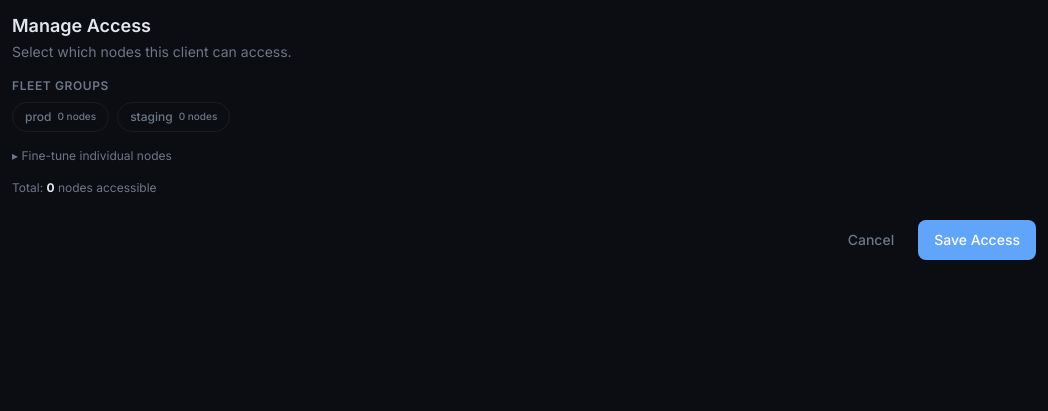
Test: ClientAccessSheet a11y (P2-FE-07 / M-F6) › exposes aria-expanded + aria-controls on the Fine-tune toggle
The width and height of the screenshot is (1048, 411).
Click the button "▸ Fine-tune individual nodes".
click(95, 156)  # box [12,148,1036,164]
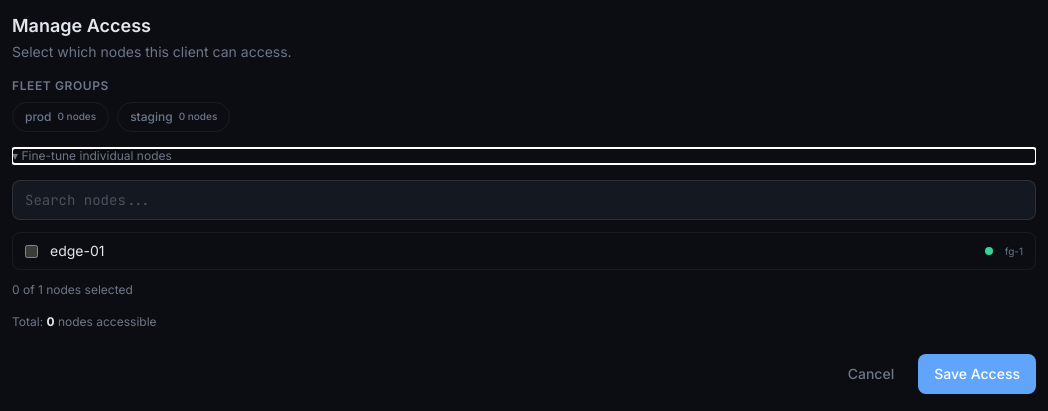
expect the button "▾ Fine-tune individual nodes" is expanded: met, box [12,148,1036,164]
expect the element with id "client-access-finetune-section" is shown: met, box [12,180,1036,298]
